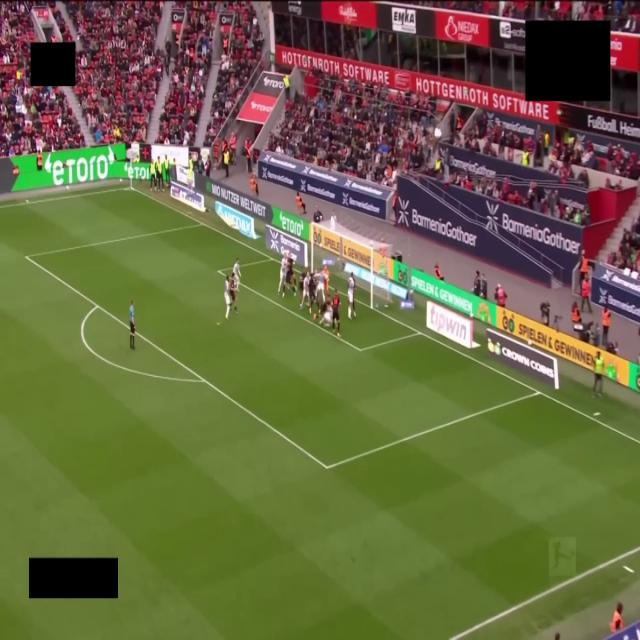player: (280, 252, 295, 296), (313, 301, 332, 327), (308, 272, 319, 314), (278, 252, 288, 294), (286, 255, 296, 295), (300, 272, 310, 310), (332, 290, 340, 336), (348, 272, 355, 319), (230, 273, 238, 312), (224, 276, 231, 319), (315, 272, 325, 302), (233, 258, 240, 290), (323, 265, 329, 297)
referee: (129, 300, 135, 349)
